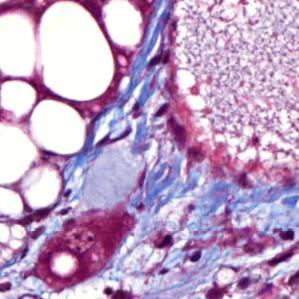steatosis: (32, 2, 114, 100), (25, 101, 88, 157)
